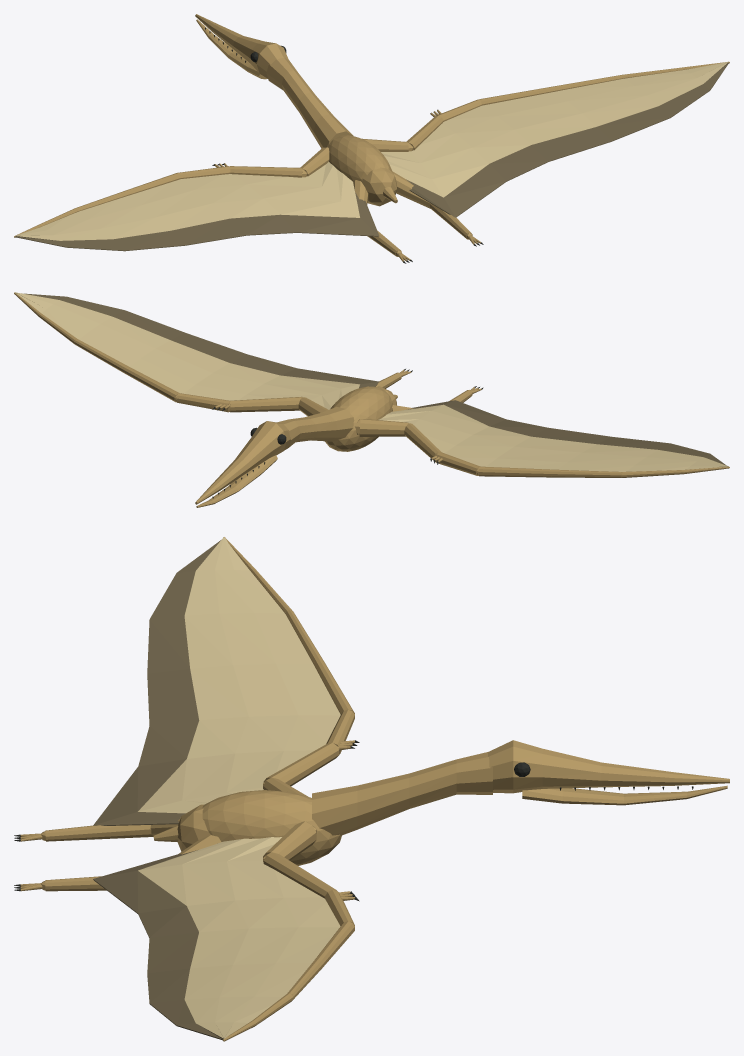
The picture shows the model from 3 angles, top to bottom: view 1: azimuth 30°, elevation 25°; view 2: azimuth 150°, elevation 25°; view 3: azimuth 270°, elevation 25°; orthographic projection. The views are drawn at different scales.
Parts seen in each view (by area): view 1: Pterodactylus antiquus inspired whole living prop; view 2: Pterodactylus antiquus inspired whole living prop; view 3: Pterodactylus antiquus inspired whole living prop.
Boxes of the visible parts, <box> form: Pterodactylus antiquus inspired whole living prop: <box>14,14,729,263</box>; Pterodactylus antiquus inspired whole living prop: <box>14,292,729,507</box>; Pterodactylus antiquus inspired whole living prop: <box>14,537,729,1041</box>.
Bounding box in the file's own units: 0.5271 × 0.0604 × 0.317.
